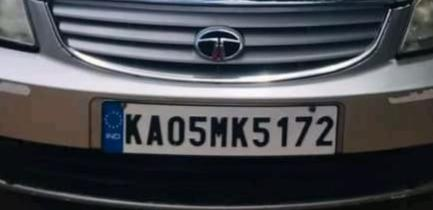0: (165, 114, 186, 147)
1: (276, 112, 293, 150)
2: (314, 114, 338, 151)
5: (248, 113, 272, 149), (186, 111, 208, 149)
7: (293, 111, 315, 152)
A: (146, 109, 167, 150)
K: (123, 110, 145, 150), (231, 112, 252, 151)
M: (209, 112, 229, 151)
